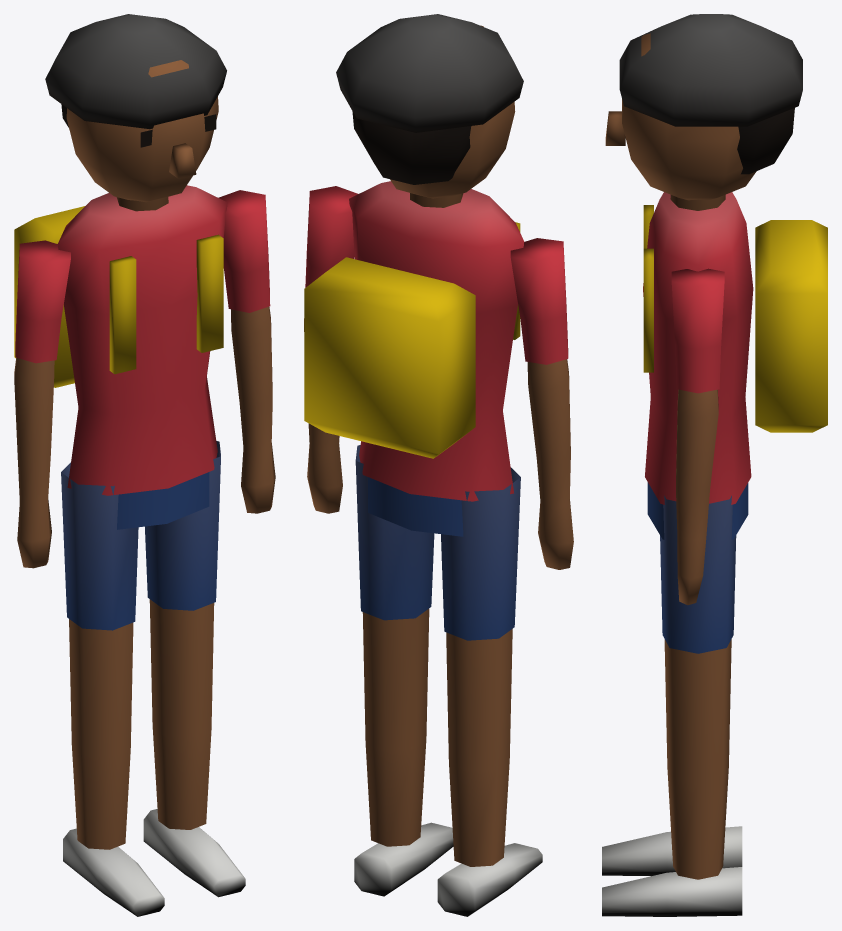
Rendered from nino.glb.
3 views of the same model, side by side, from view 1: azimuth 30°, elevation 25°; view 2: azimuth 150°, elevation 25°; view 3: azimuth 270°, elevation 25° (orthographic). The views are drawn at different scales.
Visible parts, largest first — view 1: nino; view 2: nino; view 3: nino.
Boxes of the visible parts, <box> form: nino: <box>14,14,275,916</box>; nino: <box>304,14,573,916</box>; nino: <box>602,14,827,916</box>.
Bounding box in the file's own units: 0.3794 × 1.18 × 0.2784.
